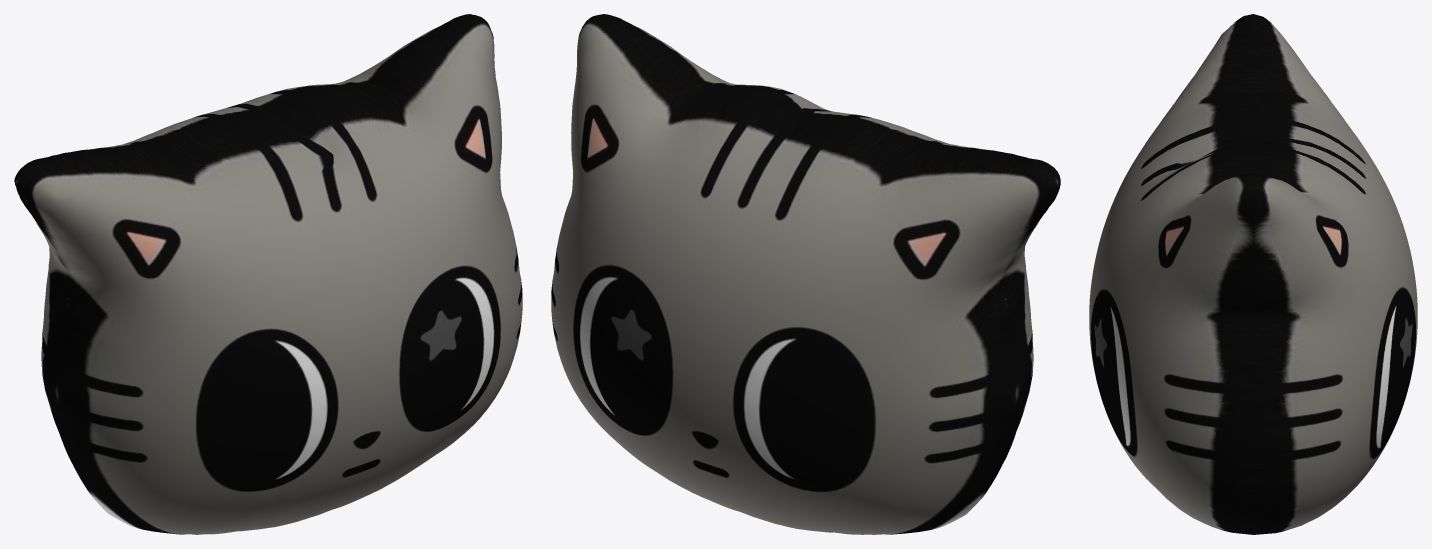
File: asset.glb
3 views of the same model, side by side, from view 1: azimuth 30°, elevation 25°; view 2: azimuth 150°, elevation 25°; view 3: azimuth 270°, elevation 25° (orthographic). The views are drawn at different scales.
Bounding box in the file's own units: 6 × 5.24 × 3.72.
Materials: 1 (1 with a texture image).
